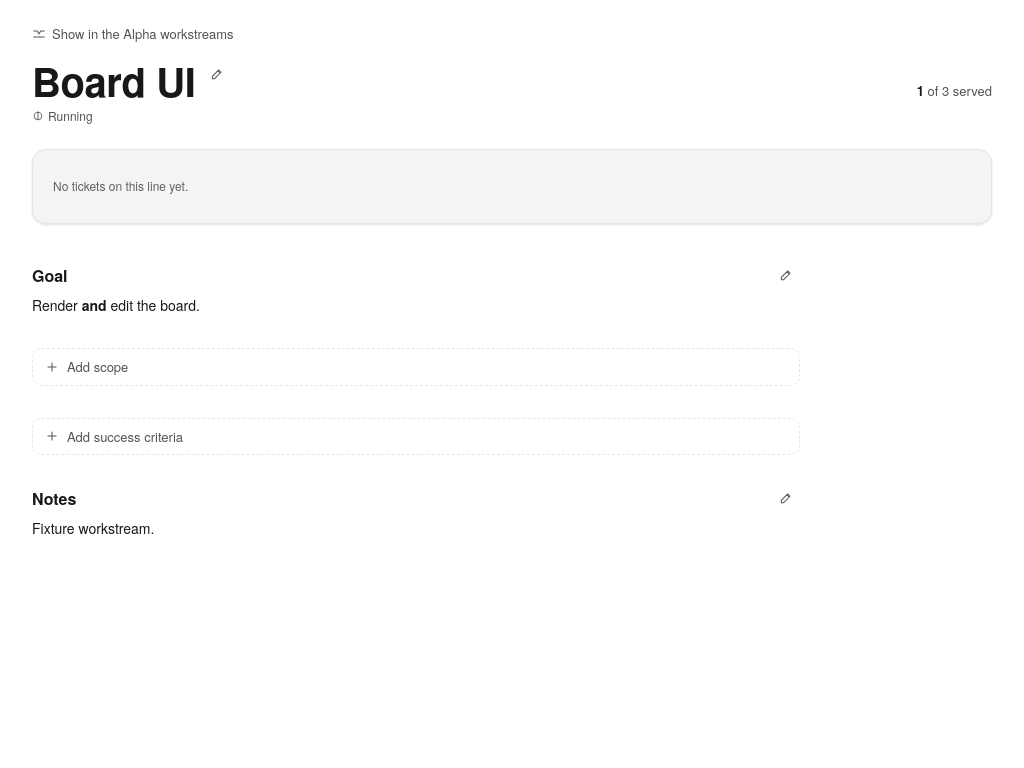
it: WorkstreamPage › renames the workstream in place and moves to its new slug (FH-167)
Click the button named "Edit name": (218, 74) [204, 60, 232, 88]
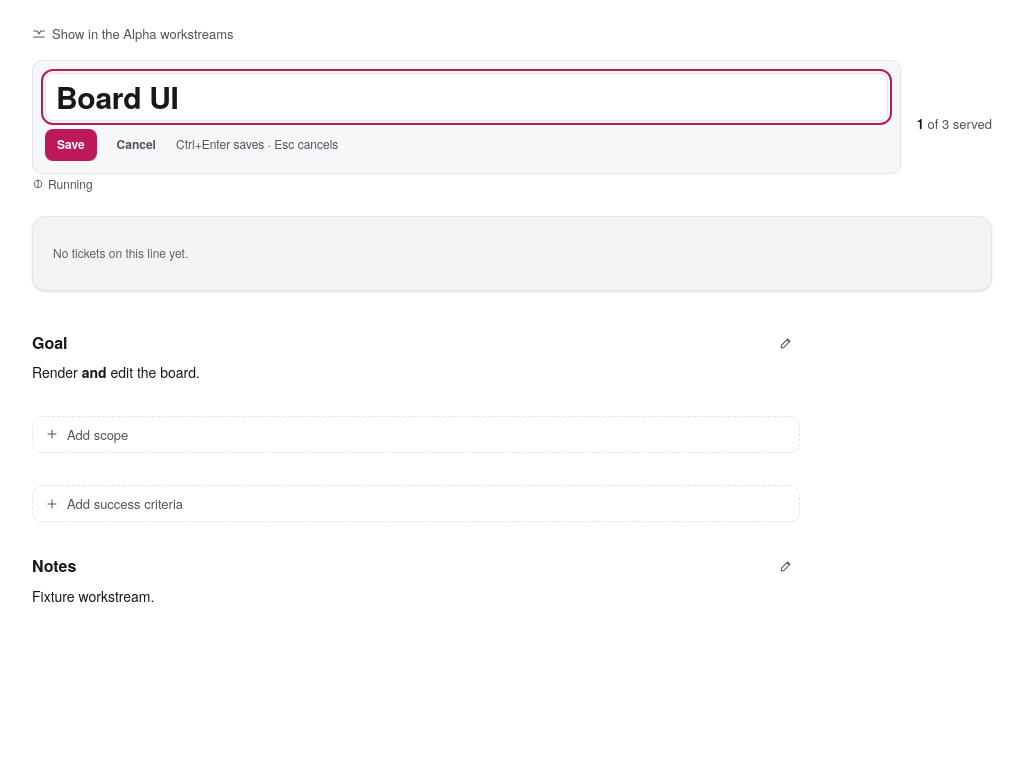
Expected: the field named "Name" holds "Board UI"
Replace the text in the field named "Name" with "  Board lanes ": (466, 97) [45, 73, 888, 120]
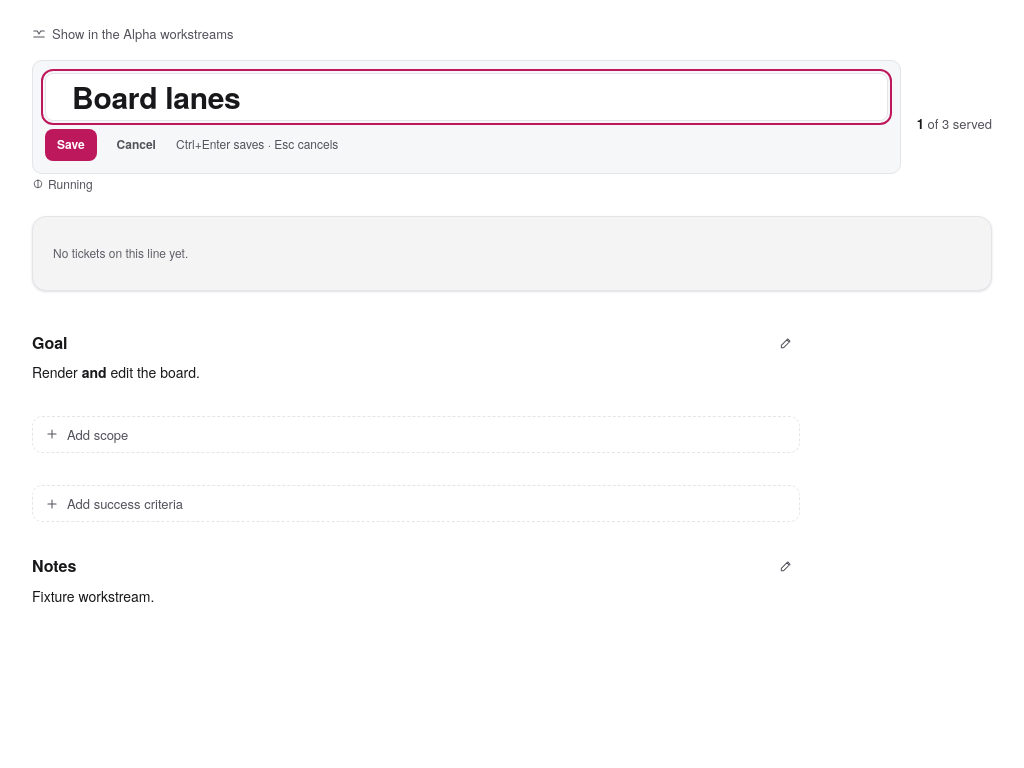
Type keys "{Control>}{Enter}{/Control}"
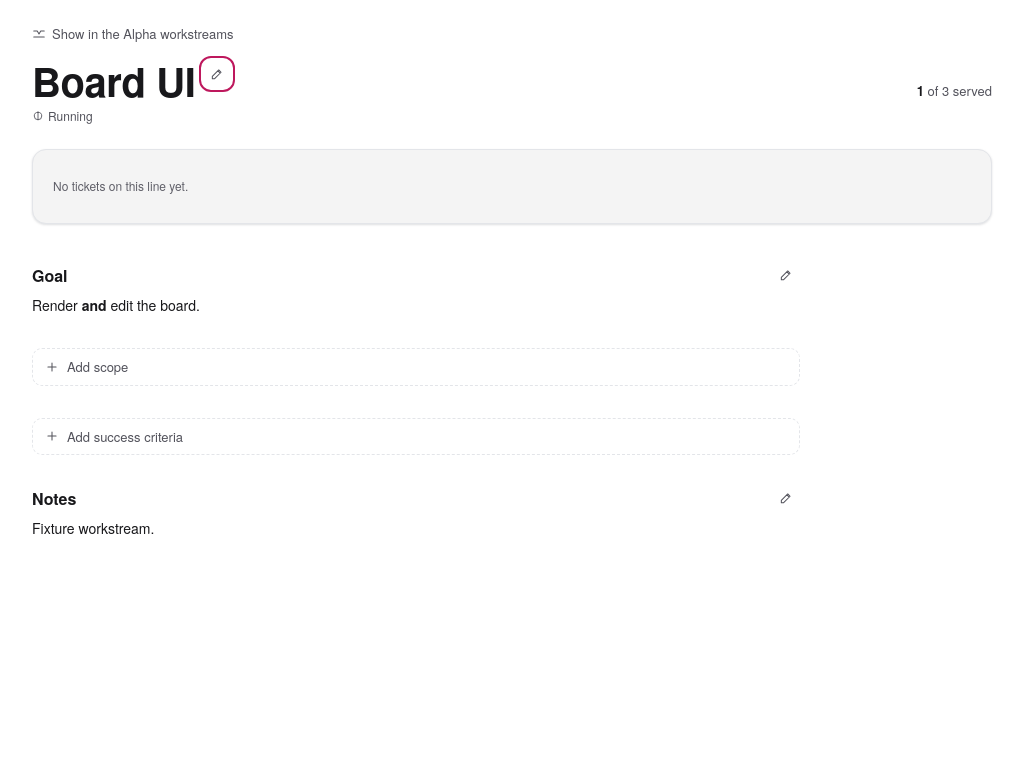
Expected: the field labelled "Name" is gone
